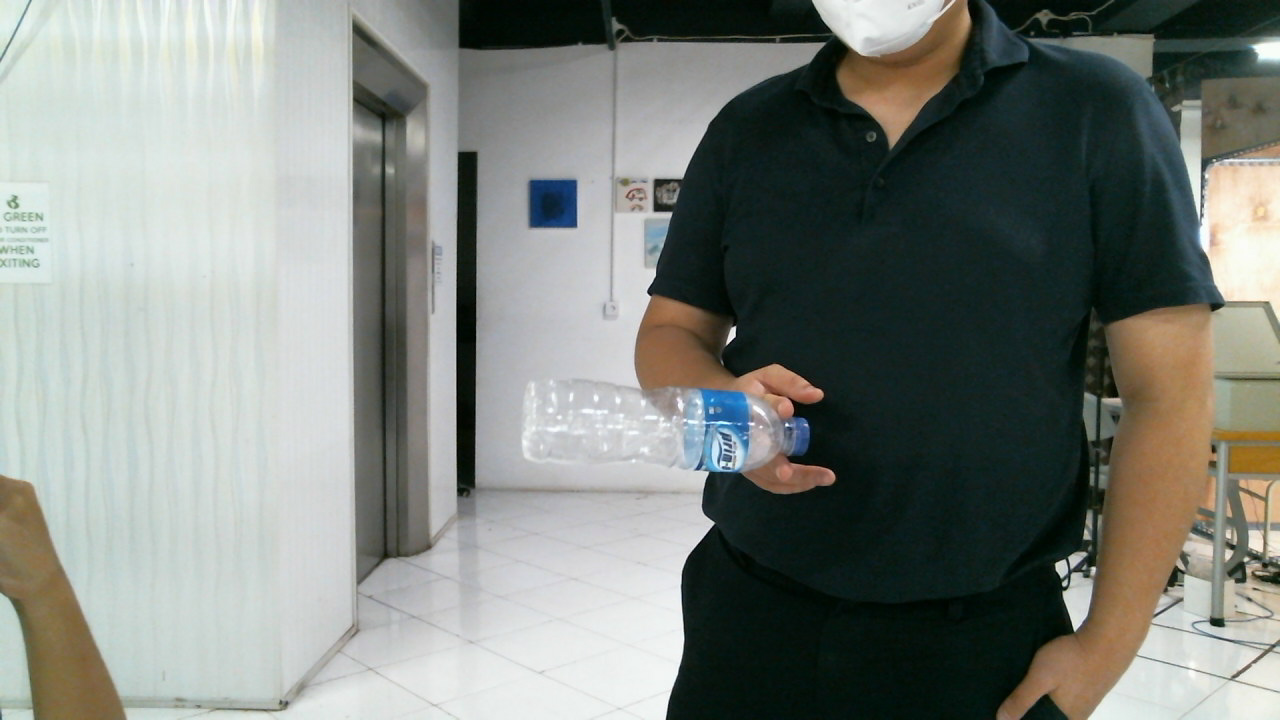Bottle: (512, 382, 814, 478)
